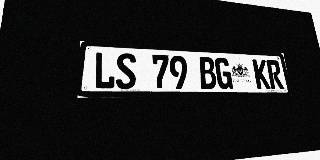7: (151, 54, 171, 89)
9: (169, 55, 189, 89)
B: (198, 57, 217, 89)
G: (214, 57, 233, 89)
K: (252, 59, 271, 89)
L: (94, 52, 115, 89)
R: (266, 60, 284, 89)
S: (116, 53, 136, 89)
